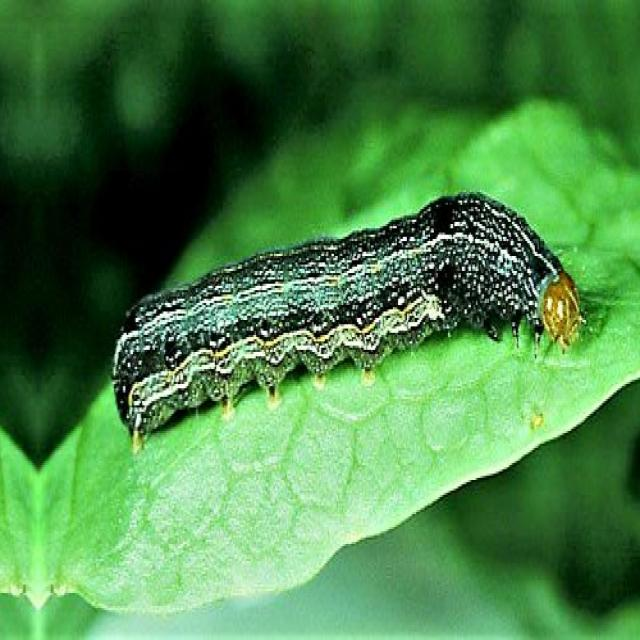Armyworm: (110, 191, 581, 470)
